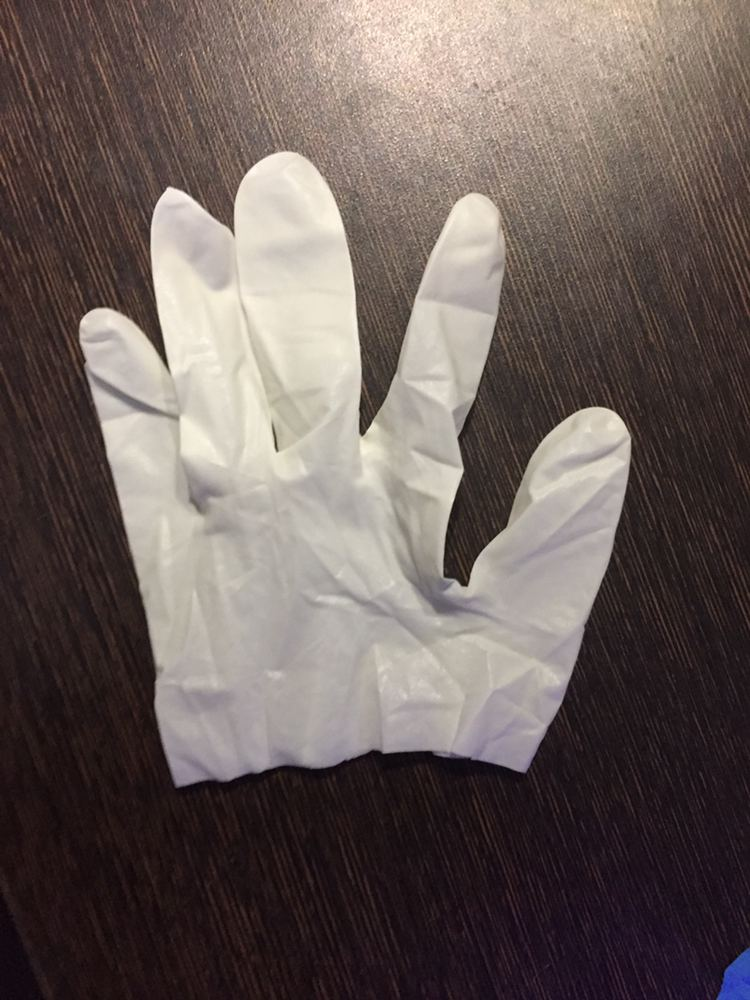defected: (45, 133, 632, 790)
